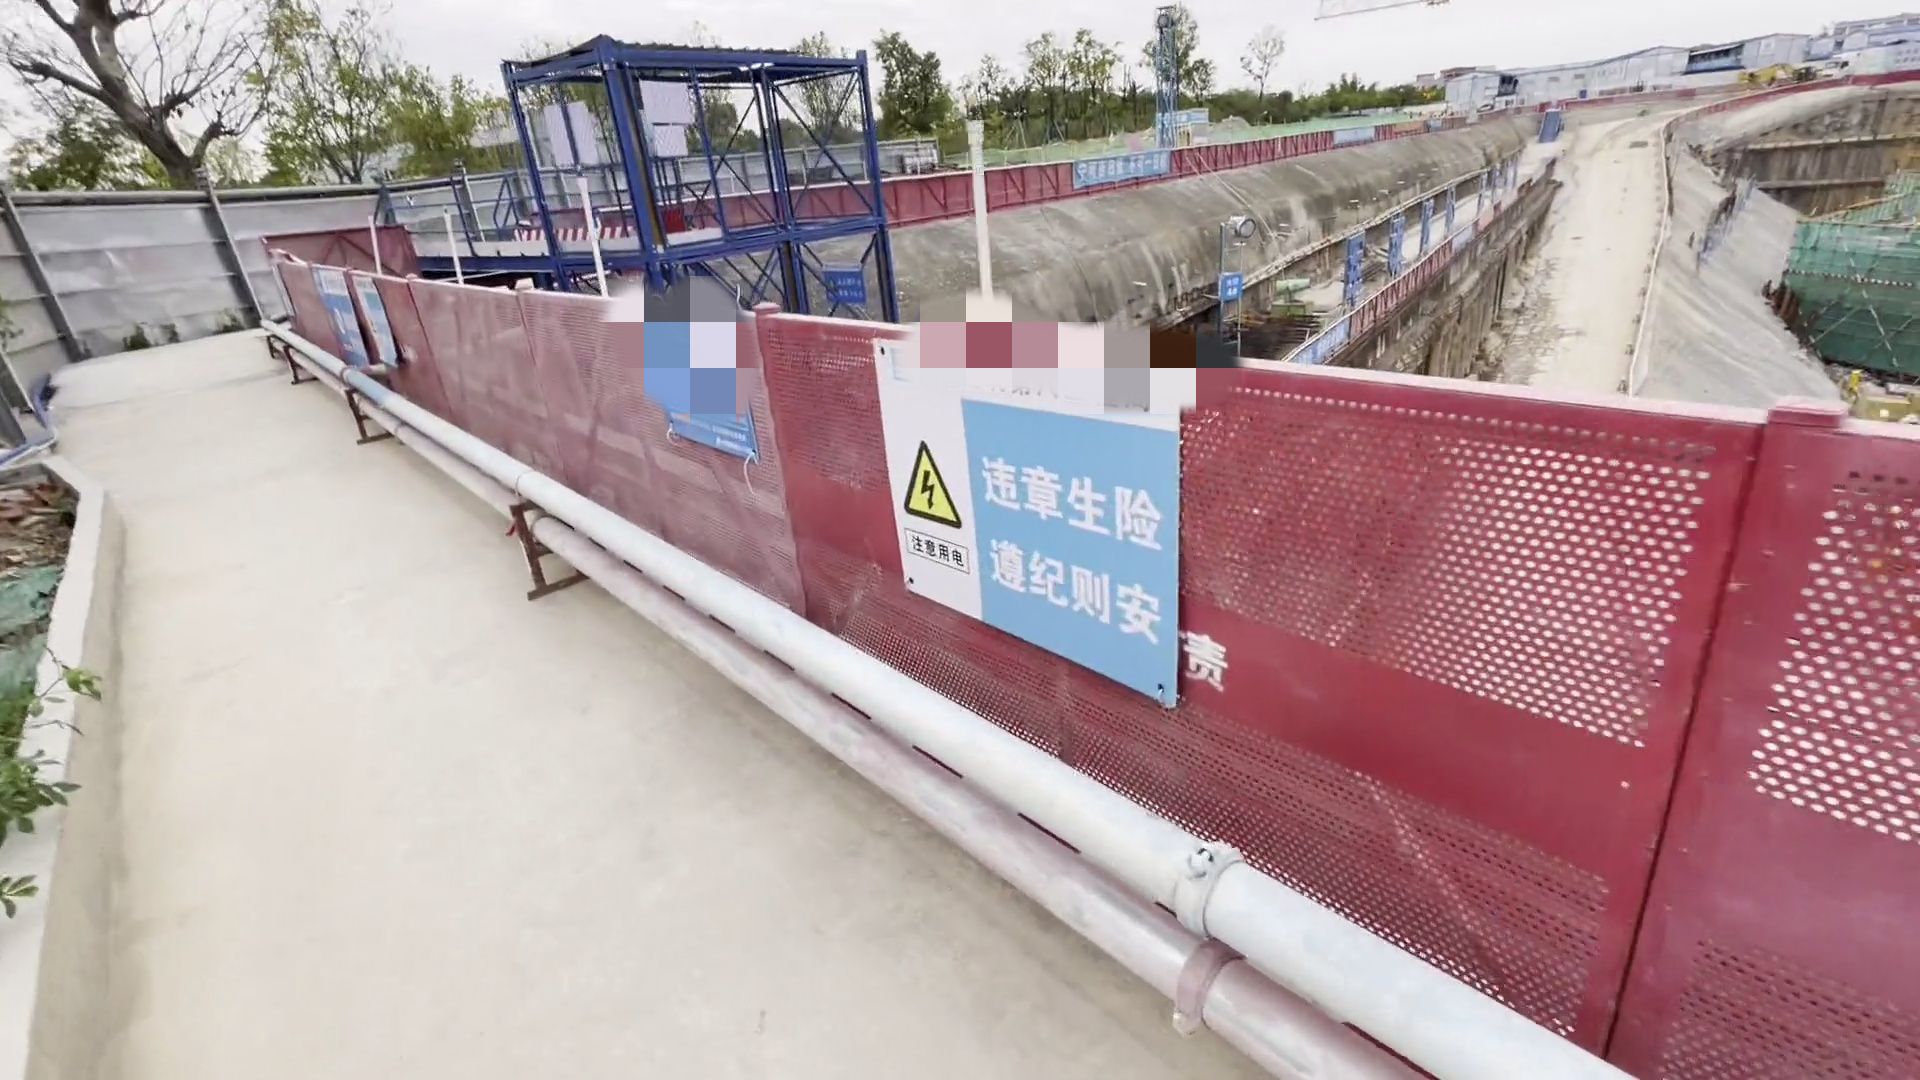fence: (214, 266, 1898, 1034), (731, 153, 1275, 220)
slogan: (876, 323, 1191, 696), (301, 266, 413, 386), (1068, 142, 1176, 189)
